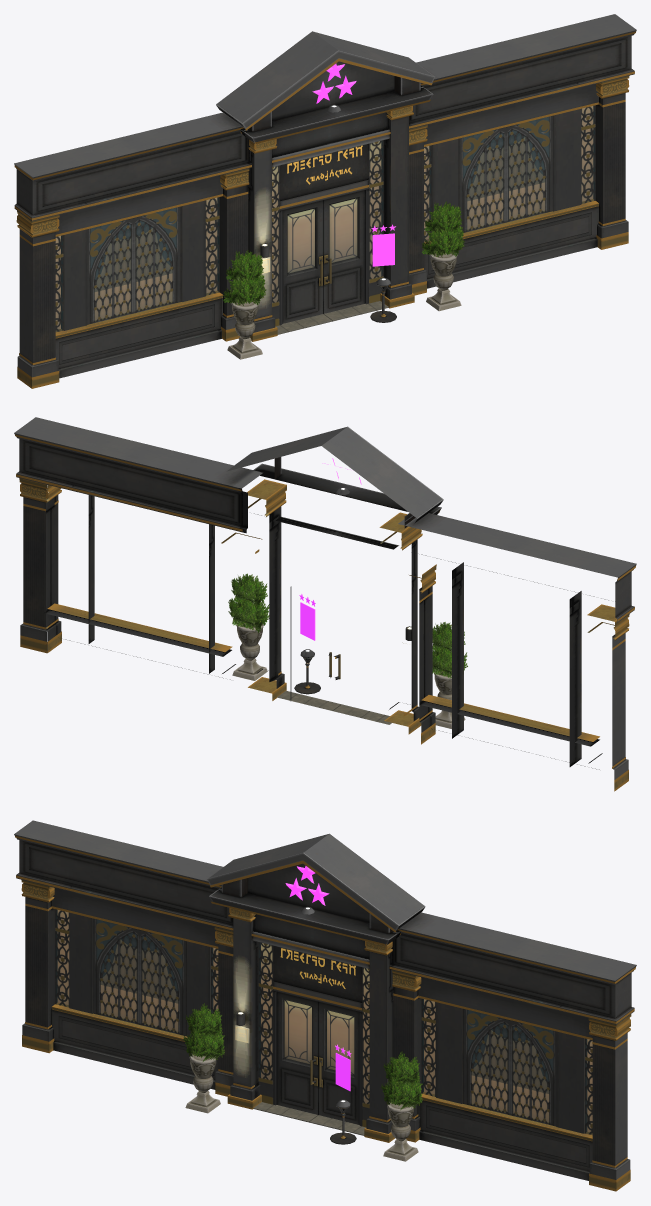
The model's file is t1_b_restaurant_kiwami.glb.
The picture shows the model from 3 angles, top to bottom: view 1: azimuth 30°, elevation 25°; view 2: azimuth 150°, elevation 25°; view 3: azimuth 330°, elevation 25°; orthographic projection.
Visible parts, largest first — view 1: nomerge_t1_b_restaurant_kiwami_model_mesh; view 2: nomerge_t1_b_restaurant_kiwami_model_mesh; view 3: nomerge_t1_b_restaurant_kiwami_model_mesh.
Part boxes in pixels (x1,y1,x2,y2): nomerge_t1_b_restaurant_kiwami_model_mesh: (14,14,636,388); nomerge_t1_b_restaurant_kiwami_model_mesh: (14,417,636,791); nomerge_t1_b_restaurant_kiwami_model_mesh: (14,820,636,1191).
Bounding box in the file's own units: 12.71 × 5.54 × 1.65.
6 materials, 5 textured.
